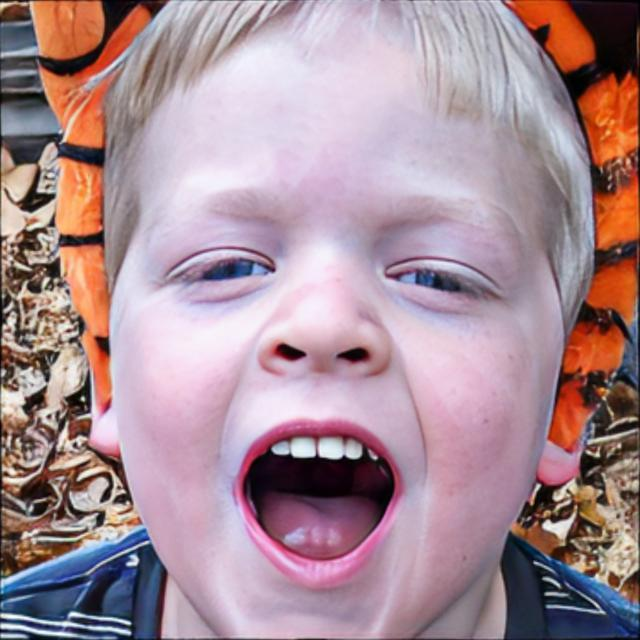surprise: (108, 0, 564, 640)
